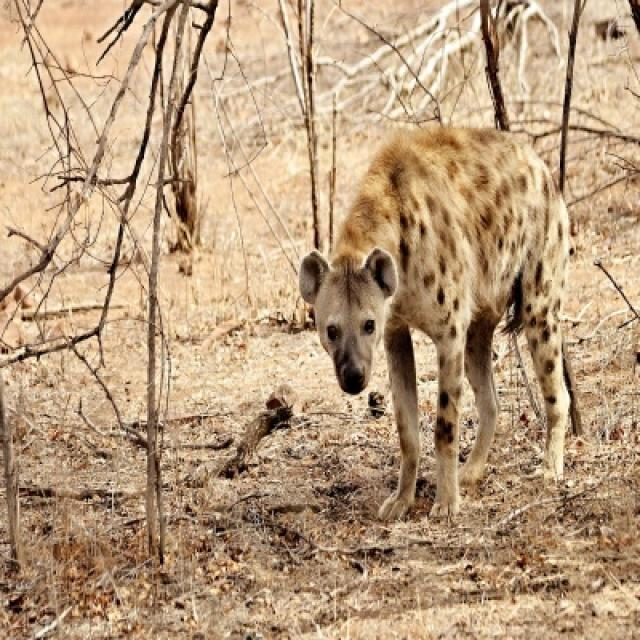hyena: (299, 125, 578, 522)
